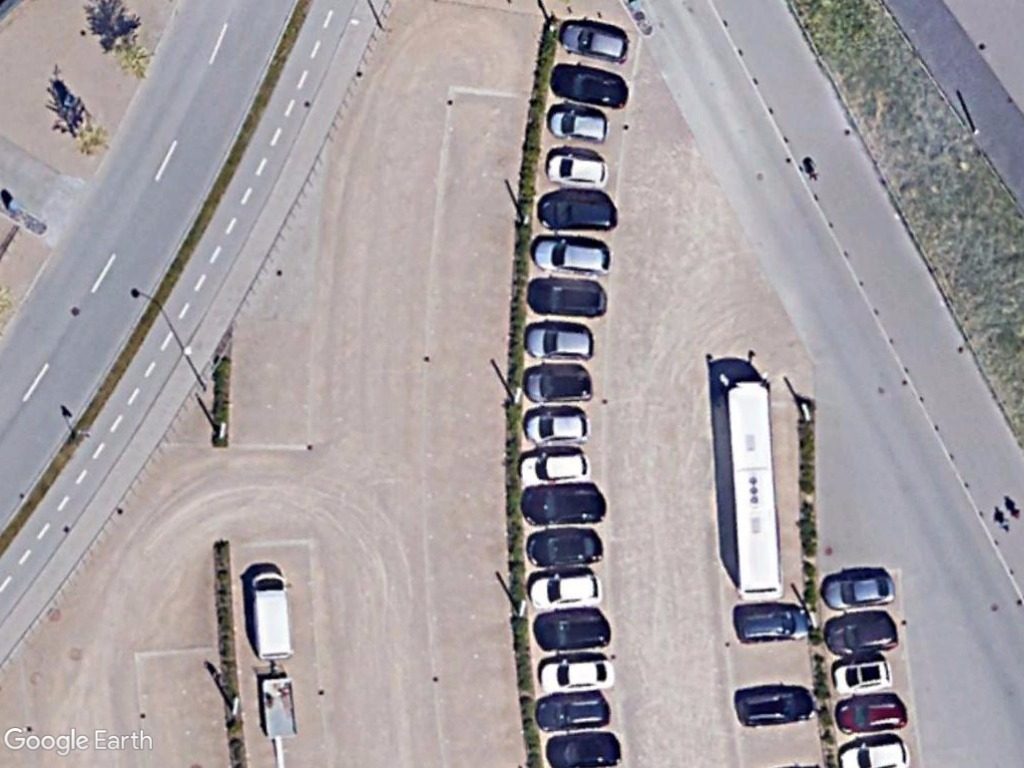bus: (720, 373, 790, 603)
car: (544, 58, 633, 112), (729, 679, 818, 731), (513, 485, 609, 528), (524, 274, 615, 319), (535, 188, 621, 235), (553, 16, 635, 65), (523, 523, 607, 570), (533, 687, 615, 735), (730, 600, 813, 647), (822, 607, 902, 655), (531, 232, 616, 277), (534, 606, 612, 654), (534, 653, 619, 696), (521, 568, 604, 612), (513, 445, 594, 490), (518, 318, 595, 365), (832, 692, 912, 737), (818, 570, 901, 613), (519, 362, 601, 405), (522, 403, 593, 447), (542, 149, 615, 191), (829, 654, 899, 695), (544, 101, 612, 143)
van: (245, 567, 296, 664)
